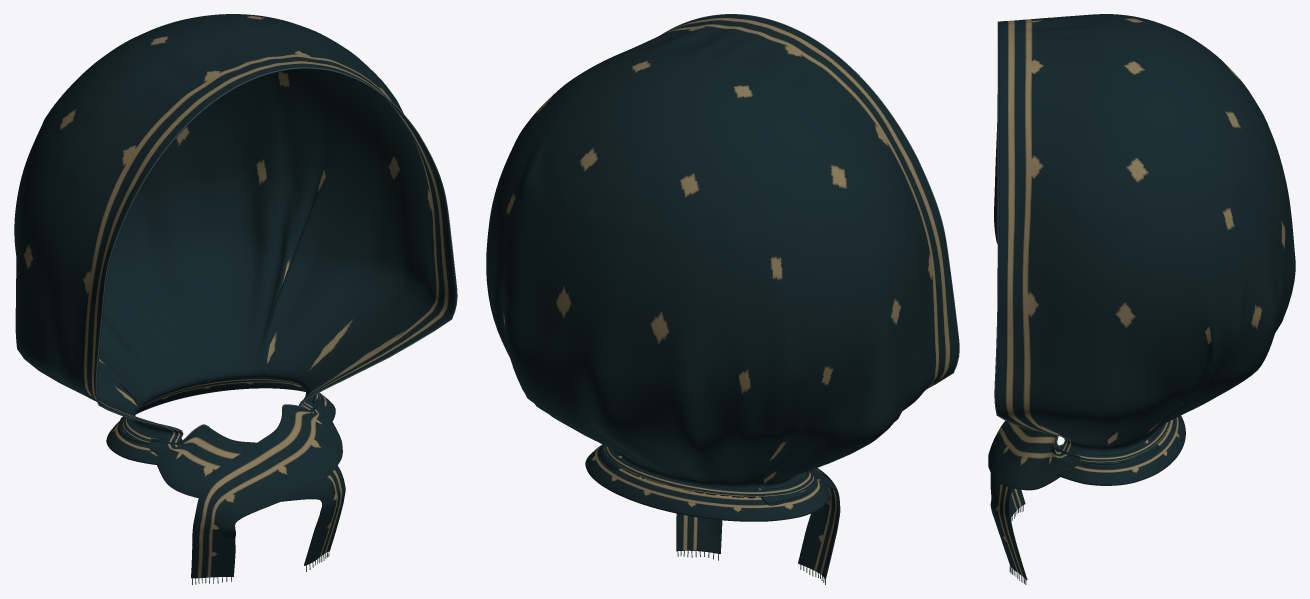
File: Feminine-jersey-pashmina238-headgear.glb
3 renders of one model, left to right at view 1: azimuth 30°, elevation 25°; view 2: azimuth 150°, elevation 25°; view 3: azimuth 270°, elevation 25°, orthographic. The views are drawn at different scales.
Parts seen in each view (by area): view 1: 226 headgear / Headwear / continuous woven pashmina238, 226 headgear / Headwear / face edge238; view 2: 226 headgear / Headwear / continuous woven pashmina238, 226 headgear / Headwear / face edge238; view 3: 226 headgear / Headwear / continuous woven pashmina238, 226 headgear / Headwear / face edge238.
Boxes of the visible parts, x1=… form: 226 headgear / Headwear / continuous woven pashmina238: x1=14, y1=14, x2=456, y2=578; 226 headgear / Headwear / face edge238: x1=95, y1=67, x2=457, y2=441; 226 headgear / Headwear / continuous woven pashmina238: x1=486, y1=14, x2=958, y2=578; 226 headgear / Headwear / face edge238: x1=661, y1=14, x2=959, y2=388; 226 headgear / Headwear / continuous woven pashmina238: x1=988, y1=14, x2=1295, y2=580; 226 headgear / Headwear / face edge238: x1=994, y1=21, x2=1065, y2=446.
Size of the model in its own units: 1.02 by 1.35 by 0.7252.
Materials: 3 (1 with a texture image).
